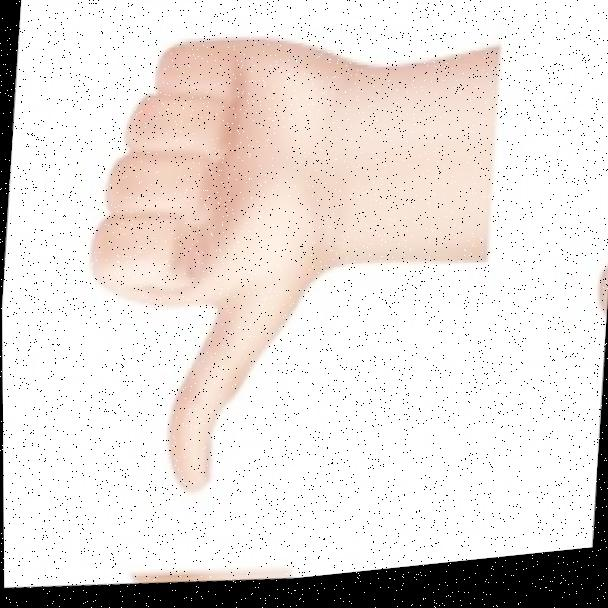five: (56, 8, 386, 529)
